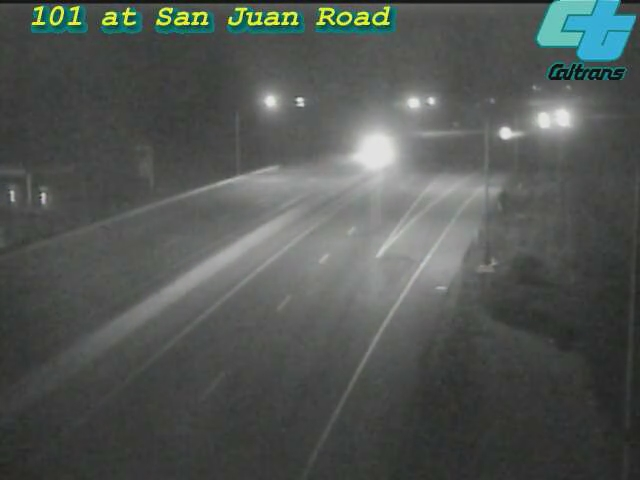vehicle: (347, 125, 397, 175), (480, 109, 530, 159), (513, 95, 563, 145), (538, 91, 588, 141)
